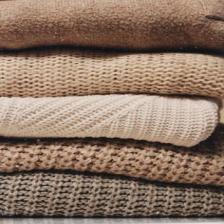brown: (1, 125, 224, 186), (1, 0, 224, 52)
